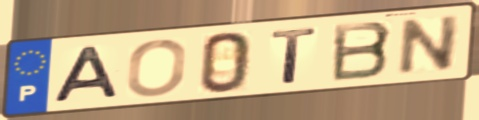0: (196, 29, 254, 95)
A: (50, 43, 123, 105)
B: (329, 19, 395, 84)
N: (394, 13, 464, 78)
O: (124, 37, 190, 99)
T: (268, 25, 320, 86)
